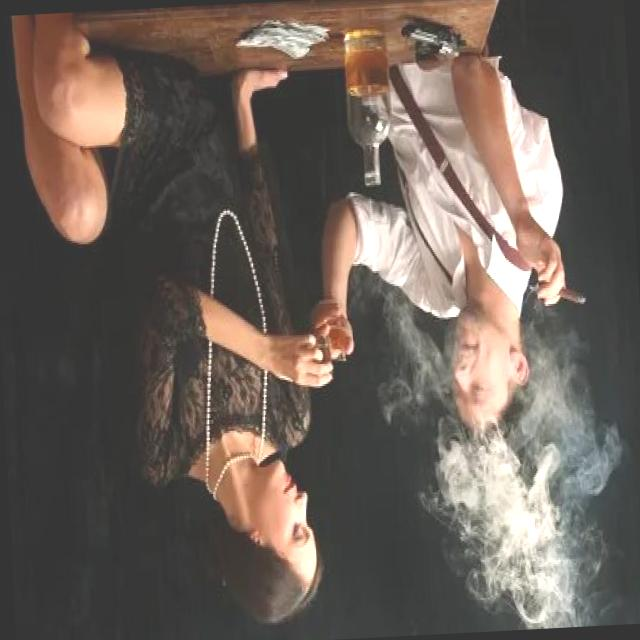cigarette: (532, 274, 590, 315)
